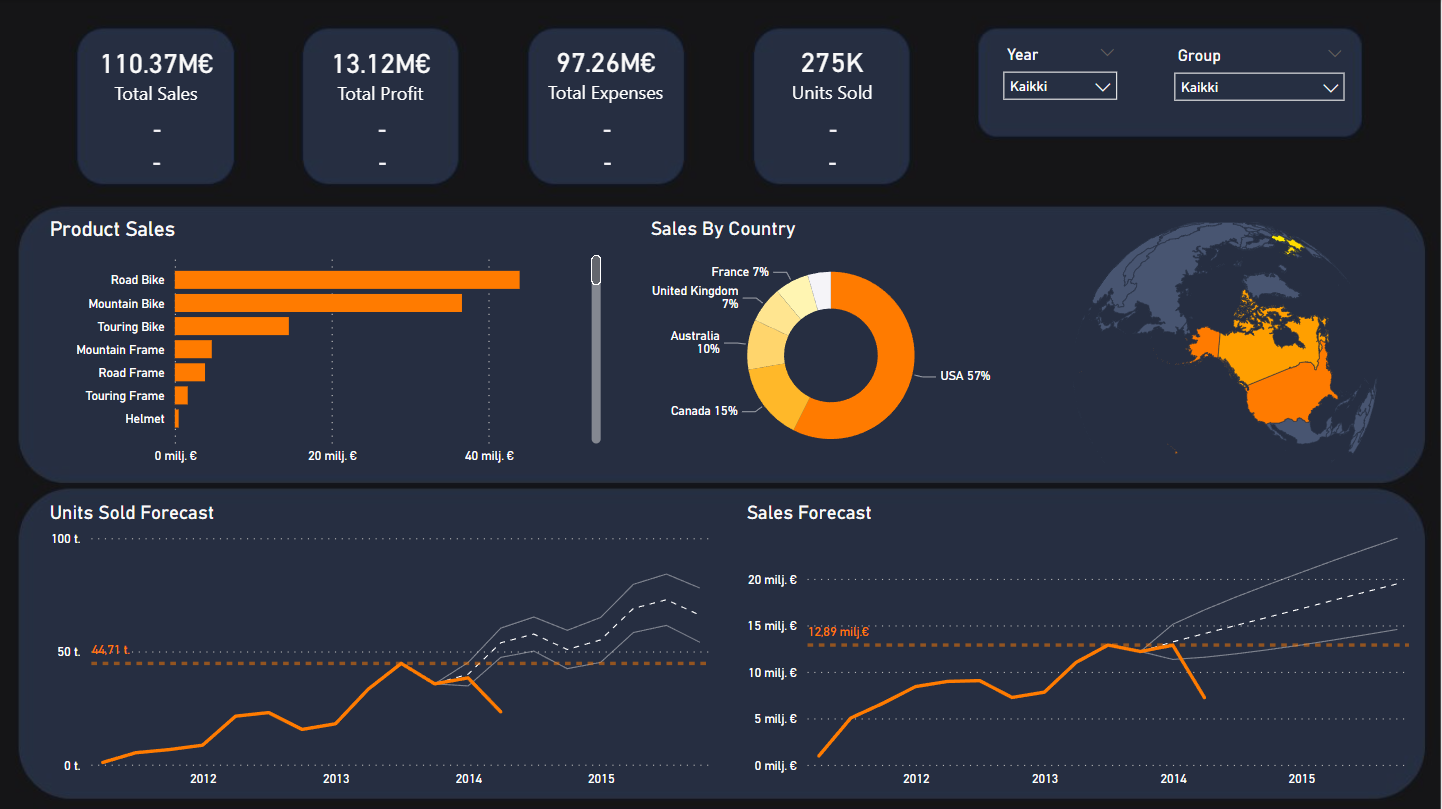

What the dashboard file says about the page in this screenshot:
{"tool":"powerbi","page":{"name":"Sivu 1","canvas":[1280,720],"ordinal":0},"visuals":[{"type":"clusteredBarChart","title":"Product Sales","fields":{"Category":["Production Product.ProductCategory","Production Product.Name"],"Y":["Sales SalesOrderDetail.Total Sales"]},"box":[41,192.8,498.6,225.8],"z":0},{"type":"slicer","fields":{"Values":["Sales SalesTerritory.Group"]},"box":[1033,36.1,171.4,58.6],"z":1000},{"type":"shapeMap","fields":{"Category":["Sales SalesTerritory.CountryNames"],"Value":["Sales SalesOrderDetail.Total Sales"]},"box":[889.3,192.8,368.7,225.8],"z":2000},{"type":"slicer","fields":{"Values":["Sales SalesOrderDetail.ModifiedDate.Vaihtelu.Päivämäärähierarkia.Vuosi"]},"box":[881.2,35.6,120.9,70.9],"z":3000},{"type":"advanceCardE03760C5AB684758B56AA29F9E6C257B","fields":{"mainMeasure":["Production ProductCostHistory.Total Expenses"]},"box":[469.3,28.6,139.7,70.3],"z":5000},{"type":"donutChart","title":"Sales By Country","fields":{"Category":["Sales SalesTerritory.CountryNames"],"Y":["Sales SalesOrderDetail.Total Sales"]},"box":[573.4,192.6,329.6,226.4],"z":6000},{"type":"advanceCardE03760C5AB684758B56AA29F9E6C257B","fields":{"mainMeasure":["Sales SalesOrderDetail.Total Profit"]},"box":[269.8,29.5,139.7,70.3],"z":7000},{"type":"advanceCardE03760C5AB684758B56AA29F9E6C257B","fields":{"mainMeasure":["Sales SalesOrderDetail.Units Sold"]},"box":[669.7,28.6,140.5,70.3],"z":8000},{"type":"advanceCardE03760C5AB684758B56AA29F9E6C257B","fields":{"mainMeasure":["Sales SalesOrderDetail.Percentage Difference"]},"box":[70.6,99.4,140,30.7],"z":9000},{"type":"advanceCardE03760C5AB684758B56AA29F9E6C257B","fields":{"mainMeasure":["Sales SalesOrderDetail.Total Profit Percentage Difference"]},"box":[270.3,99.4,140,30],"z":10000},{"type":"advanceCardE03760C5AB684758B56AA29F9E6C257B","fields":{"mainMeasure":["Production ProductCostHistory.Total Expenses Percentage Difference"]},"box":[470.1,99.4,140.1,30.7],"z":11000},{"type":"advanceCardE03760C5AB684758B56AA29F9E6C257B","fields":{"mainMeasure":["Sales SalesOrderDetail.Units Sold Percentage Difference"]},"box":[670,99.4,140.1,29.8],"z":12000},{"type":"advanceCardE03760C5AB684758B56AA29F9E6C257B","fields":{"mainMeasure":["Sales SalesOrderDetail.Total Sales"]},"box":[70.3,29.5,140.5,70.3],"z":13000},{"type":"advanceCardE03760C5AB684758B56AA29F9E6C257B","fields":{"mainMeasure":["Sales SalesOrderDetail.Sales Difference"]},"box":[90.6,128.6,100,30],"z":14000},{"type":"advanceCardE03760C5AB684758B56AA29F9E6C257B","fields":{"mainMeasure":["Sales SalesOrderDetail.Units Sold Difference"]},"box":[690.2,128.6,99.9,29.8],"z":15000},{"type":"advanceCardE03760C5AB684758B56AA29F9E6C257B","fields":{"mainMeasure":["Sales SalesOrderDetail.Expense Difference"]},"box":[490.3,128.6,99.9,30],"z":16000},{"type":"advanceCardE03760C5AB684758B56AA29F9E6C257B","fields":{"mainMeasure":["Sales SalesOrderDetail.Profit Difference"]},"box":[290.5,128.6,99.9,30.7],"z":17000},{"type":"lineChart","title":"Units Sold Forecast","fields":{"Category":["Sales SalesOrderDetail.ModifiedDate.Vaihtelu.Päivämäärähierarkia.Vuosi","Sales SalesOrderDetail.ModifiedDate.Vaihtelu.Päivämäärähierarkia.Vuosineljännes"],"Y":["Sales SalesOrderDetail.Units Sold"]},"box":[41,444.7,599.5,259.8],"z":18000},{"type":"lineChart","title":"Sales Forecast","fields":{"Category":["Sales SalesOrderDetail.ModifiedDate.Vaihtelu.Päivämäärähierarkia.Vuosi","Sales SalesOrderDetail.ModifiedDate.Vaihtelu.Päivämäärähierarkia.Vuosineljännes"],"Y":["Sales SalesOrderDetail.Total Sales"]},"box":[658.5,444.7,600,260],"z":19000}]}

Visuals, with their boxes in screenshot pixels (x1, y1, x2, y2), scaled from the page's 1280x720 canvas onto the 1442x809 screenshot:
"Product Sales" clusteredBarChart: (46,217,608,470)
slicer - Sales SalesTerritory.Group: (1164,41,1357,106)
shapeMap - Sales SalesTerritory.CountryNames x Sales SalesOrderDetail.Total Sales: (1002,217,1417,470)
slicer - Sales SalesOrderDetail.ModifiedDate.Vaihtelu.Päivämäärähierarkia.Vuosi: (993,40,1129,120)
advanceCardE03760C5AB684758B56AA29F9E6C257B - Production ProductCostHistory.Total Expenses: (529,32,686,111)
"Sales By Country" donutChart: (646,216,1017,471)
advanceCardE03760C5AB684758B56AA29F9E6C257B - Sales SalesOrderDetail.Total Profit: (304,33,461,112)
advanceCardE03760C5AB684758B56AA29F9E6C257B - Sales SalesOrderDetail.Units Sold: (754,32,913,111)
advanceCardE03760C5AB684758B56AA29F9E6C257B - Sales SalesOrderDetail.Percentage Difference: (80,112,237,146)
advanceCardE03760C5AB684758B56AA29F9E6C257B - Sales SalesOrderDetail.Total Profit Percentage Difference: (305,112,462,145)
advanceCardE03760C5AB684758B56AA29F9E6C257B - Production ProductCostHistory.Total Expenses Percentage Difference: (530,112,687,146)
advanceCardE03760C5AB684758B56AA29F9E6C257B - Sales SalesOrderDetail.Units Sold Percentage Difference: (755,112,913,145)
advanceCardE03760C5AB684758B56AA29F9E6C257B - Sales SalesOrderDetail.Total Sales: (79,33,237,112)
advanceCardE03760C5AB684758B56AA29F9E6C257B - Sales SalesOrderDetail.Sales Difference: (102,144,215,178)
advanceCardE03760C5AB684758B56AA29F9E6C257B - Sales SalesOrderDetail.Units Sold Difference: (778,144,890,178)
advanceCardE03760C5AB684758B56AA29F9E6C257B - Sales SalesOrderDetail.Expense Difference: (552,144,665,178)
advanceCardE03760C5AB684758B56AA29F9E6C257B - Sales SalesOrderDetail.Profit Difference: (327,144,440,179)
"Units Sold Forecast" lineChart: (46,500,722,792)
"Sales Forecast" lineChart: (742,500,1418,792)
